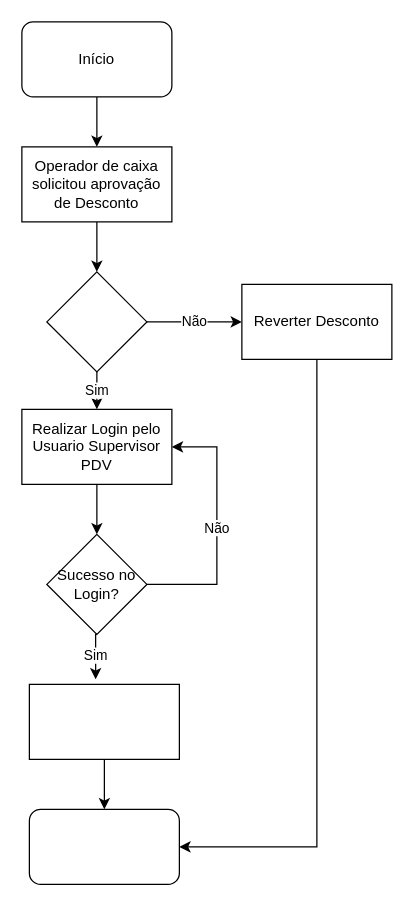
This 414x906 diagram has some shape labels left out. Here are the shapes that lost their labels. From the top down, the centre of each, then its label:
At pixel 96 321: "Desconto Aprovado?".
At pixel 103 721: "Aplicar Desconto".
At pixel 103 846: "Fim".
